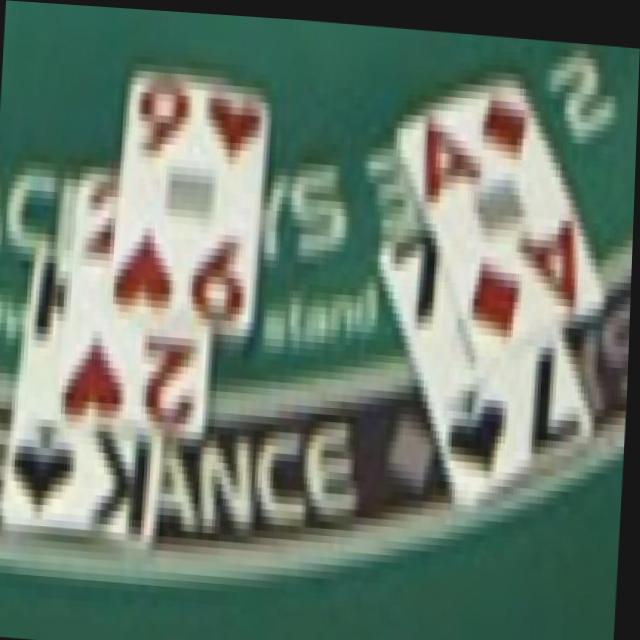Card-2: (64, 165, 208, 431)
Card-7: (380, 217, 595, 499)
Card-9: (116, 62, 269, 330)
Card-A: (399, 67, 606, 366)
Card-K: (3, 238, 166, 538)
